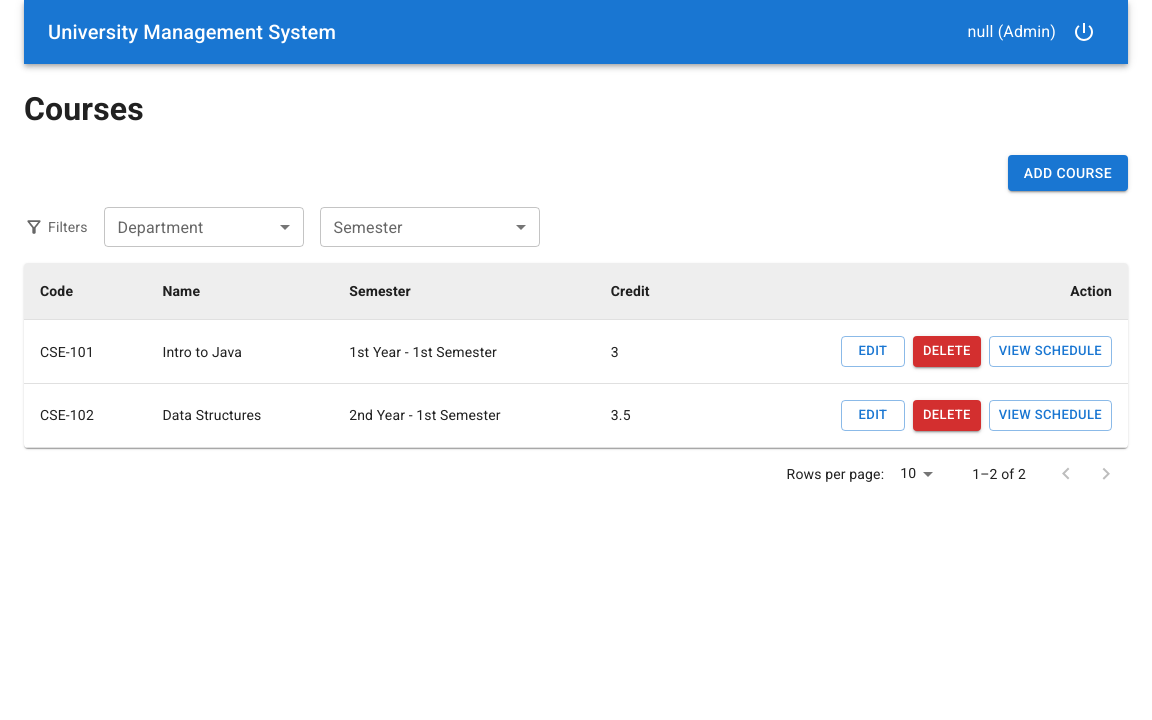
Test case: CoursePage › opens the edit dialog with prefilled values
The image size is (1152, 720).
Check: the text "Intro to Java" is shown, box [146,320,333,384]
Step 1. Click the button "Edit" in the row of "CSE-101" → click(873, 352), box [841,336,905,367]
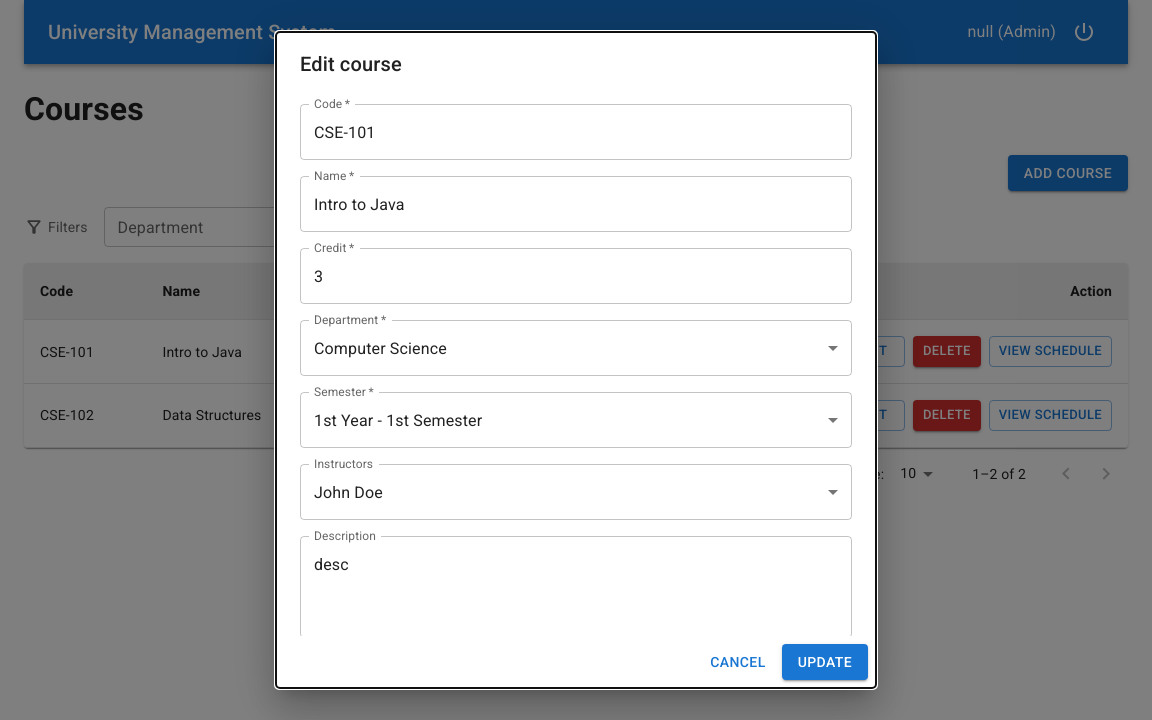
Check: the field labelled "Code *" holds "CSE-101", box [300,104,852,160]
Check: the field labelled "Name *" holds "Intro to Java", box [300,176,852,232]
Check: the number field labelled "Credit *" holds "3", box [300,248,852,304]
